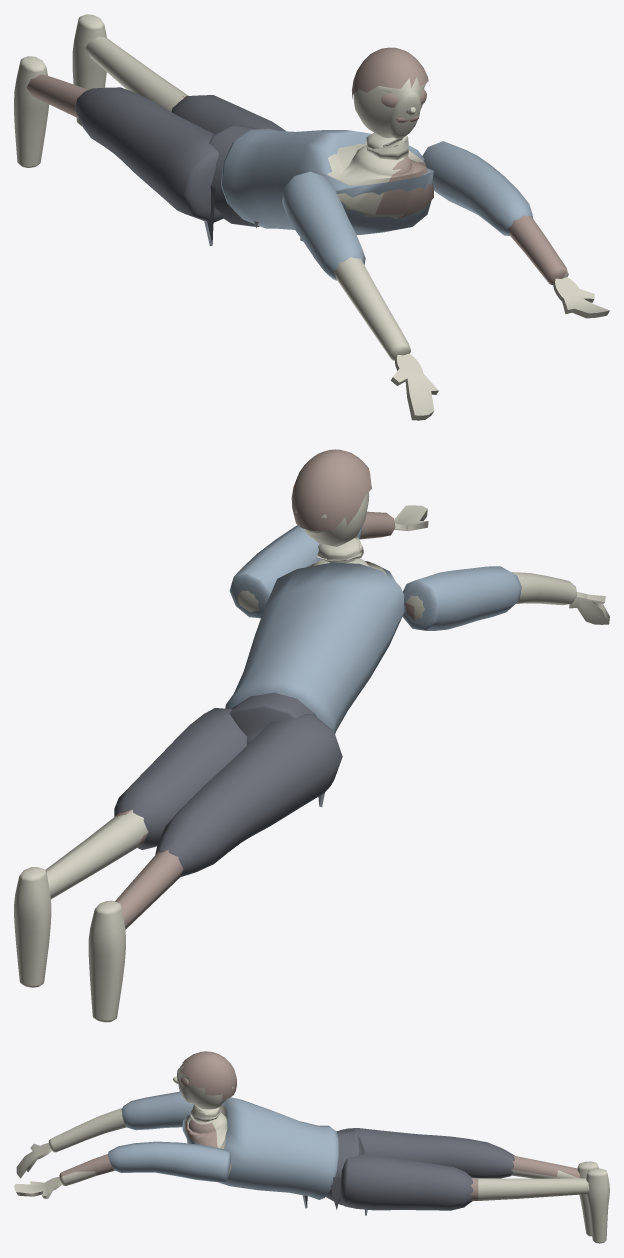
3 views of the same model, one above another, from view 1: azimuth 30°, elevation 25°; view 2: azimuth 150°, elevation 25°; view 3: azimuth 270°, elevation 25° (orthographic). The views are drawn at different scales.
Parts seen in each view (by area): view 1: crawler-infected; view 2: crawler-infected; view 3: crawler-infected.
Boxes of the visible parts, bbox=[...] form: crawler-infected: bbox=[14, 14, 609, 420]; crawler-infected: bbox=[14, 449, 609, 1022]; crawler-infected: bbox=[14, 1051, 609, 1243].
Bounding box in the file's own units: 0.5562 × 0.7639 × 2.01.
